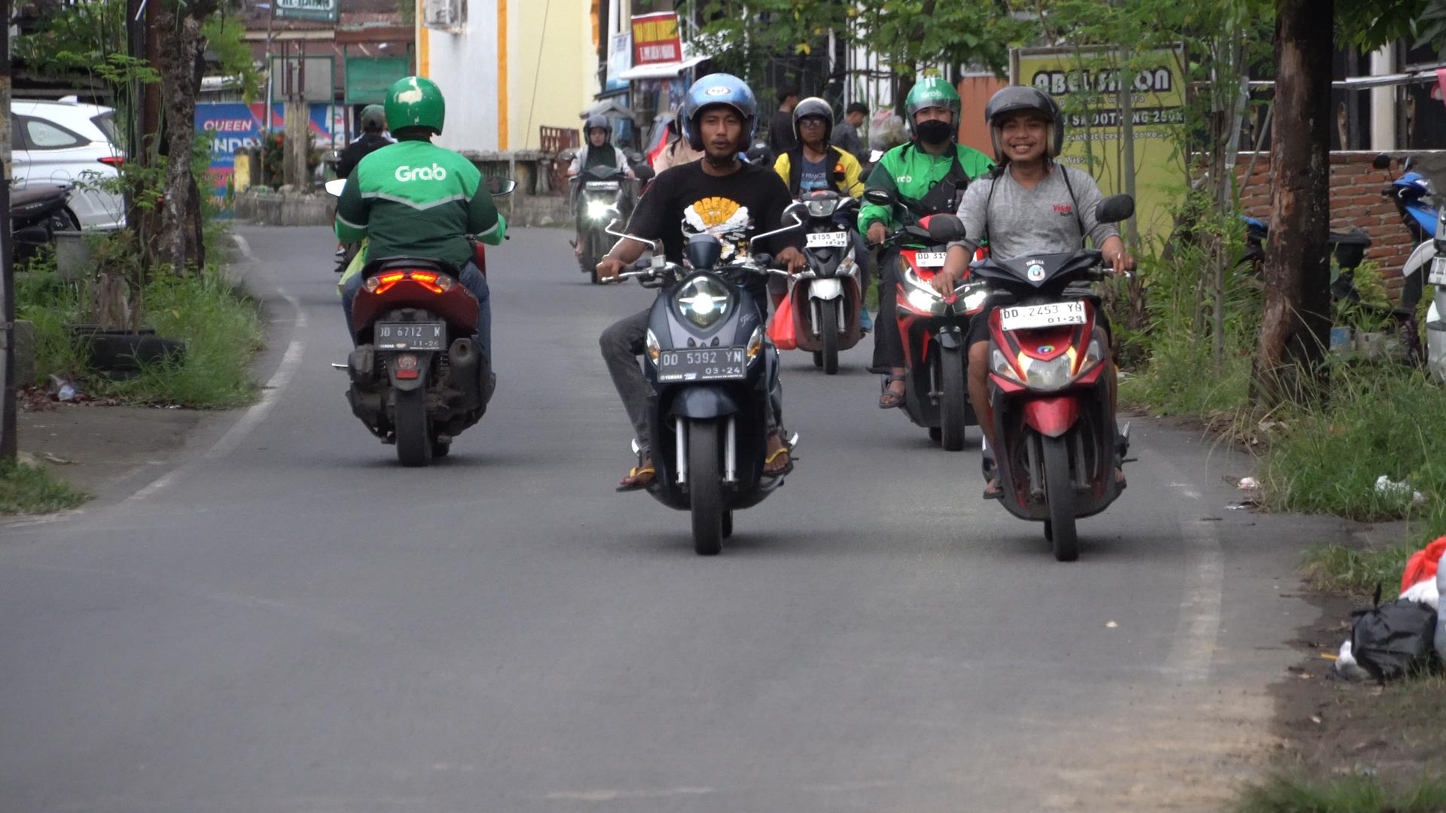number-plate: (657, 345, 750, 382), (999, 303, 1091, 327)
